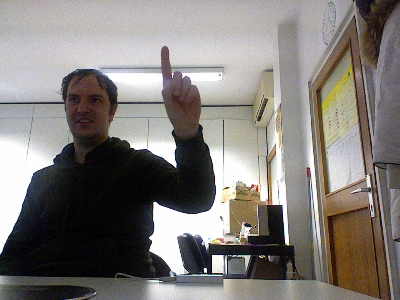食指: (159, 43, 202, 133)
